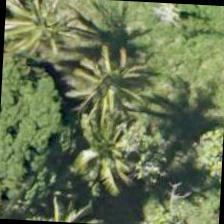Kelapa_Sawit: (72, 48, 168, 143), (90, 117, 185, 212), (2, 0, 78, 69)
